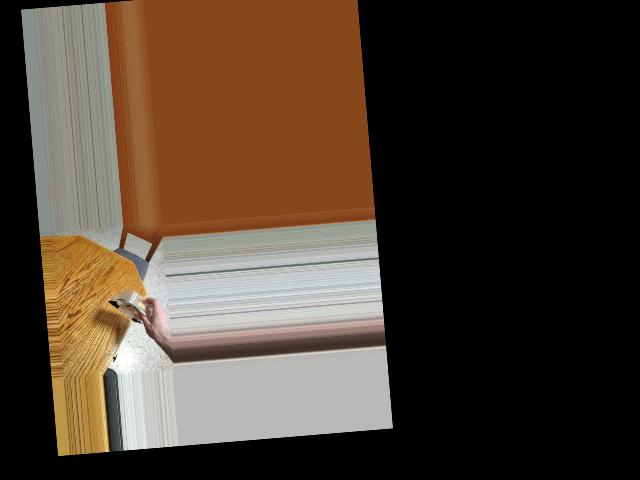cheese: (112, 278, 155, 331)
